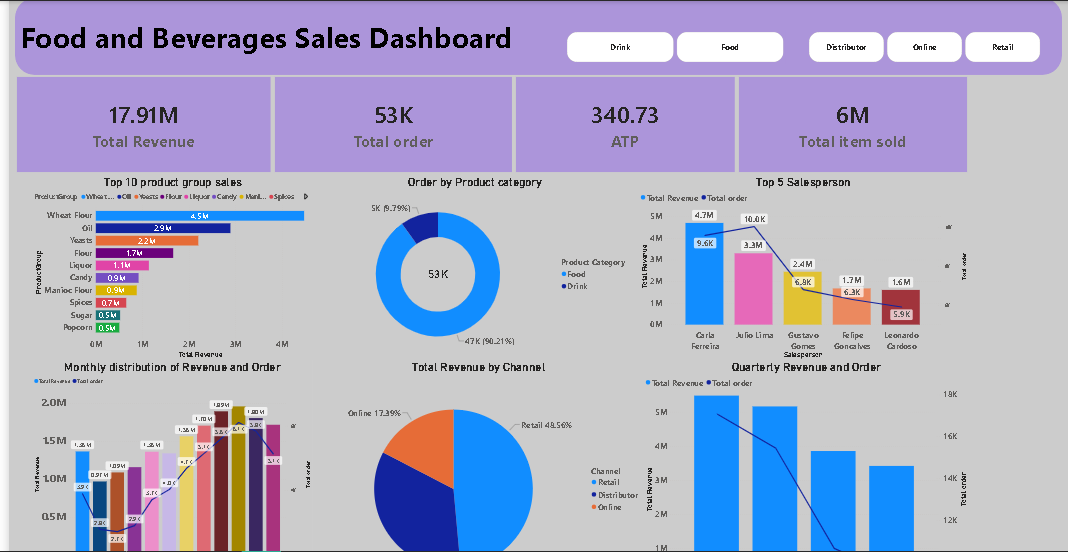

Layout of this report page (visuals, bound fields, positions):
{"tool":"powerbi","page":{"name":"Dashboard","canvas":[3000,2500],"ordinal":0},"visuals":[{"type":"barChart","title":"Top 10 product group sales","fields":{"Category":["Product.ProductGroup"],"Series":["Product.ProductGroup"],"Y":["Sales.Total Revenue"]},"box":[60,456.7,728,480],"z":0},{"type":"lineClusteredColumnComboChart","title":"Top 5 Salesperson","fields":{"Category":["Sales.Salesperson"],"Y":["Sales.Total Revenue"],"Y2":["Sales.Total order"]},"box":[1626.7,456.7,856,480],"z":1000},{"type":"donutChart","title":"Order by Product category","fields":{"Category":["Product.ProductCategory"],"Y":["Sales.Total order"]},"box":[786.7,456.7,838,480],"z":2000},{"type":"pieChart","fields":{"Category":["Sales.Channel"],"Y":["Sales.Total Revenue"]},"box":[788.6,937.1,851.4,632.9],"z":3000},{"type":"lineClusteredColumnComboChart","title":"Quarterly Revenue and Order","fields":{"Category":["dateTable.quarter"],"Y":["Sales.Total Revenue"],"Y2":["Sales.Total order"]},"box":[1640,936.7,844,636],"z":4000},{"type":"lineStackedColumnComboChart","title":"Monthly distribution of Revenue and Order","fields":{"Category":["dateTable.month"],"Y":["Sales.Total Revenue"],"Y2":["Sales.Total order"]},"box":[60,936.7,725.9,633.3],"z":5000},{"type":"cardVisual","fields":{"Data":["Sales.Total Revenue"]},"box":[16.7,200,666.7,256.7],"z":6000},{"type":"cardVisual","fields":{"Data":["Sales.Total order"]},"box":[683.3,200,623.3,256.7],"z":7000},{"type":"cardVisual","fields":{"Data":["Sales.ATP"]},"box":[1306.7,200,576.7,256.7],"z":8000},{"type":"cardVisual","fields":{"Data":["Sales.Total item sold"]},"box":[1883.3,200,600,256.7],"z":9000},{"type":"shape","box":[16.7,0,2983.3,200],"z":10000},{"type":"advancedSlicerVisual","fields":{"Values":["Product.ProductCategory"]},"box":[1745,86.7,570,88.3],"z":10001},{"type":"advancedSlicerVisual","fields":{"Values":["Sales.Channel"]},"box":[2345,86.7,610,88.3],"z":10002}]}

Visuals, with their boxes on the page's 3000x2500 design canvas (x1, y1, x2, y2). These are canvas units, not pixel positions in the 1068x552 screenshot, which may show the page scaled, cropped or inside an application window:
"Top 10 product group sales" barChart: rect(60, 457, 788, 937)
"Top 5 Salesperson" lineClusteredColumnComboChart: rect(1627, 457, 2483, 937)
"Order by Product category" donutChart: rect(787, 457, 1625, 937)
pieChart - Sales.Channel x Sales.Total Revenue: rect(789, 937, 1640, 1570)
"Quarterly Revenue and Order" lineClusteredColumnComboChart: rect(1640, 937, 2484, 1573)
"Monthly distribution of Revenue and Order" lineStackedColumnComboChart: rect(60, 937, 786, 1570)
cardVisual - Sales.Total Revenue: rect(17, 200, 683, 457)
cardVisual - Sales.Total order: rect(683, 200, 1307, 457)
cardVisual - Sales.ATP: rect(1307, 200, 1883, 457)
cardVisual - Sales.Total item sold: rect(1883, 200, 2483, 457)
shape: rect(17, 0, 3000, 200)
advancedSlicerVisual - Product.ProductCategory: rect(1745, 87, 2315, 175)
advancedSlicerVisual - Sales.Channel: rect(2345, 87, 2955, 175)
